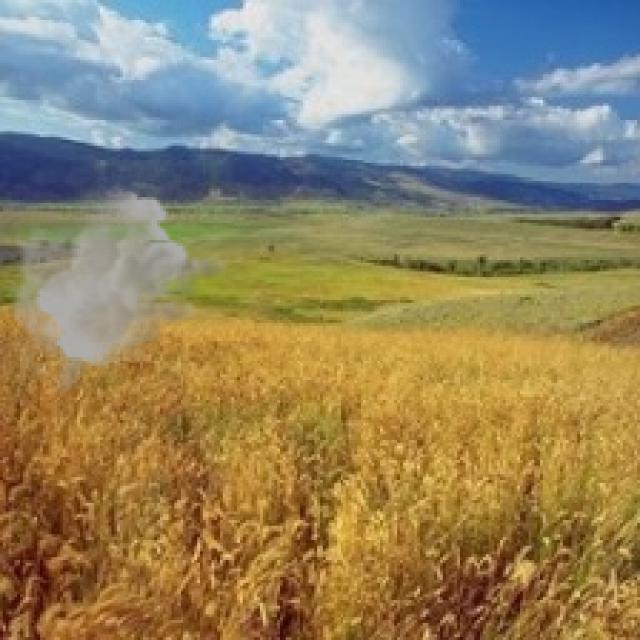smoke: (6, 186, 231, 397)
